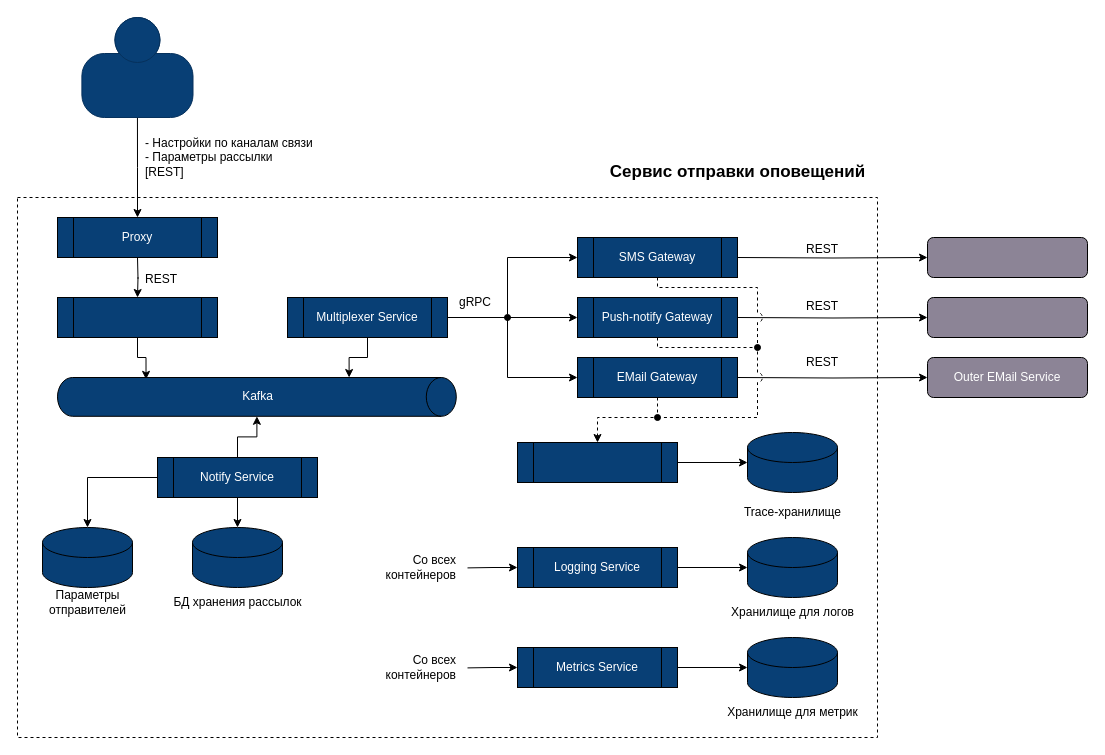
The diagram is 1105 pixels wide and 755 high, and some of its shapes have lost their labels. The shapes that lost their labels are listed below. From the top down, each one's centre as x and y in pixels, then its label:
At (137,67): "Отправитель сообщений [Компоненты системы]".
At (1007,257): "Outer SMS Service".
At (137,317): "API Gateway".
At (1007,317): "Outer Push-notify Service".
At (597,462): "Tracing Service".
